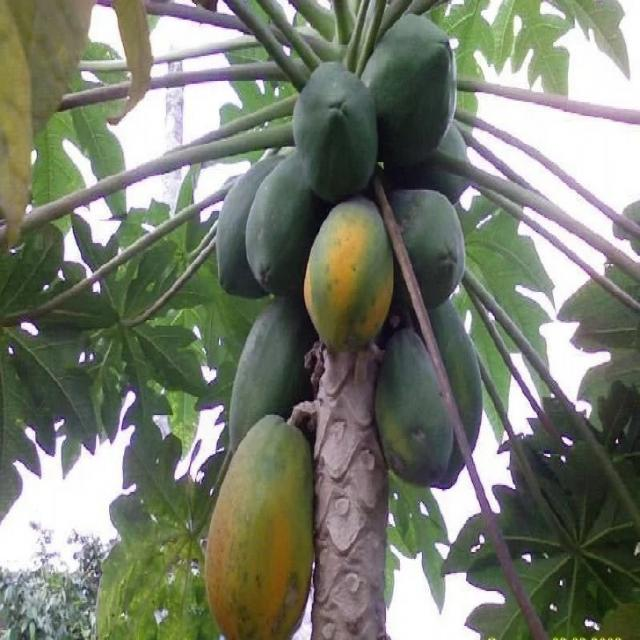Pepaya rippen: (200, 424, 310, 632), (306, 202, 391, 354)
Pepaya unrippen: (361, 10, 457, 162), (221, 137, 297, 293), (293, 53, 368, 192), (387, 341, 454, 485), (224, 308, 312, 414)
